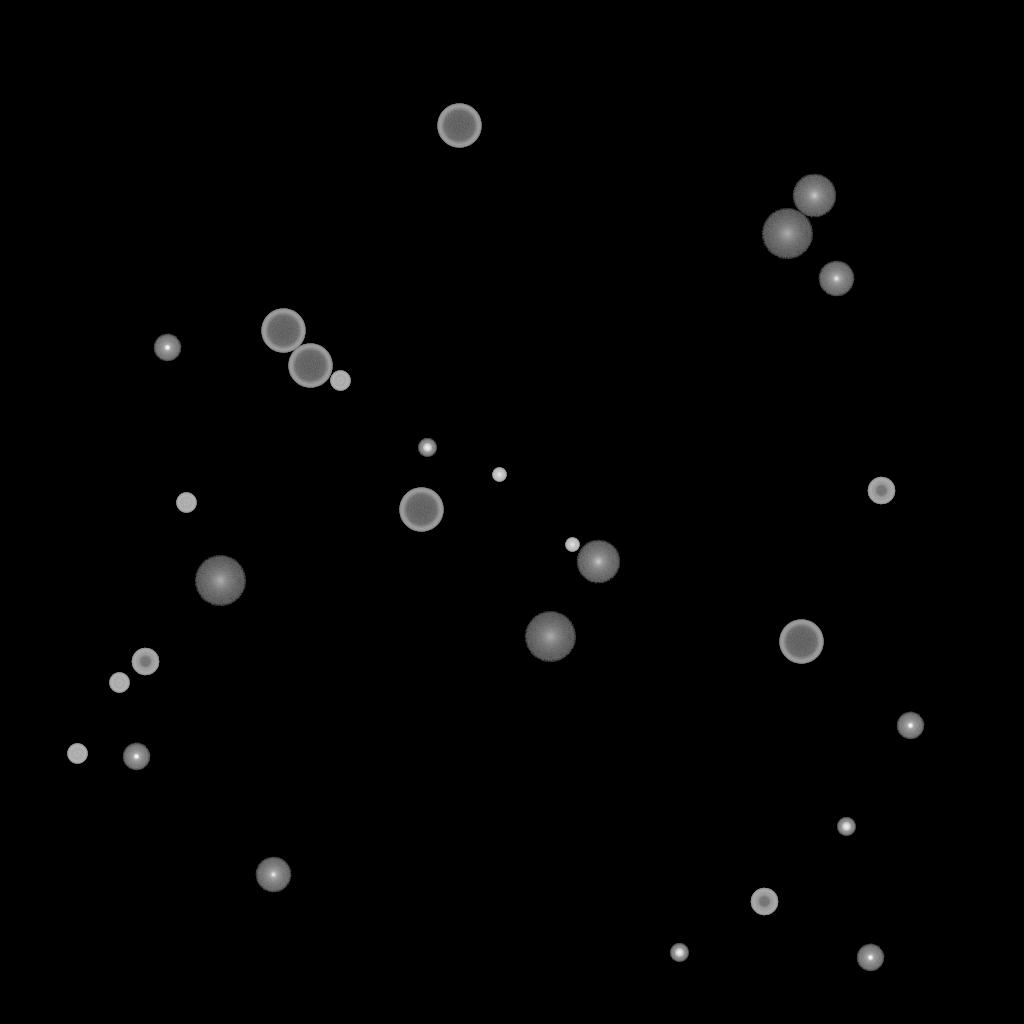depth:-10: (122, 743, 150, 771), (856, 944, 884, 972), (896, 712, 924, 740), (153, 334, 181, 362)
depth:-20: (670, 944, 688, 962), (418, 439, 436, 457), (837, 818, 855, 836)
depth:-30: (565, 538, 579, 552), (492, 468, 506, 482)
depth:-40: (176, 493, 196, 513), (67, 744, 87, 764), (330, 371, 350, 391), (109, 673, 129, 693)
depth:-50: (131, 648, 159, 676), (867, 477, 895, 505), (750, 888, 778, 916)
depth:-70: (288, 344, 332, 388), (779, 620, 823, 664), (399, 488, 443, 532), (261, 309, 305, 353), (437, 104, 481, 148)
depth:0: (255, 857, 291, 893), (818, 261, 854, 297)
depth:10: (576, 540, 620, 584), (792, 174, 836, 218)
depth:20: (194, 556, 246, 606), (761, 209, 813, 259), (524, 612, 576, 662)
